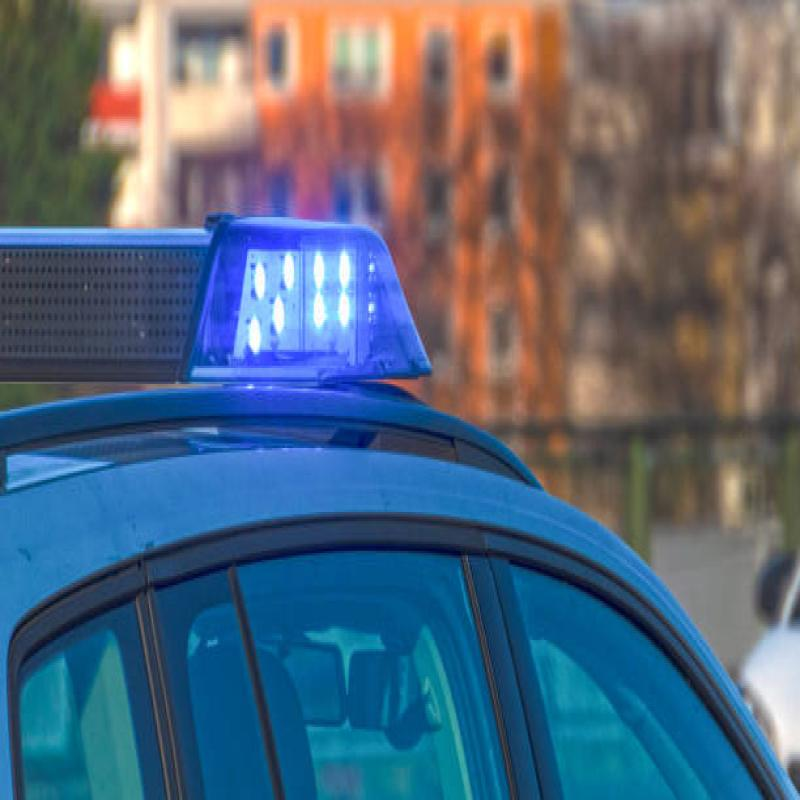AmbulanceSiren: (0, 189, 435, 410)
